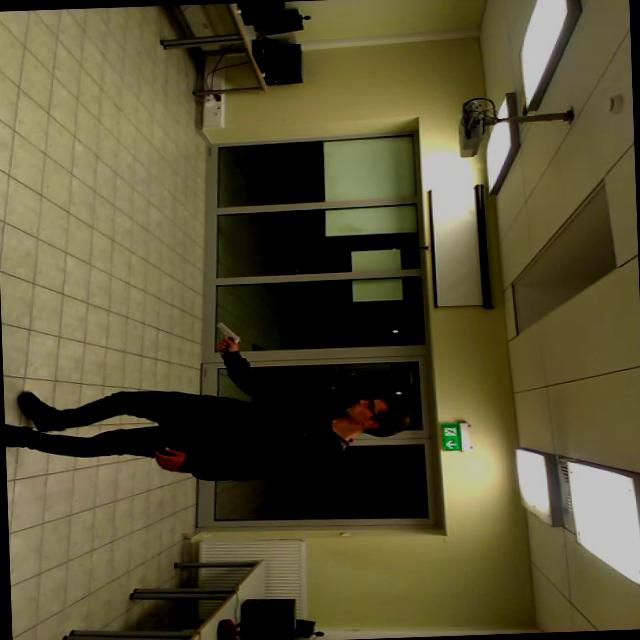handgun: (201, 316, 258, 356)
